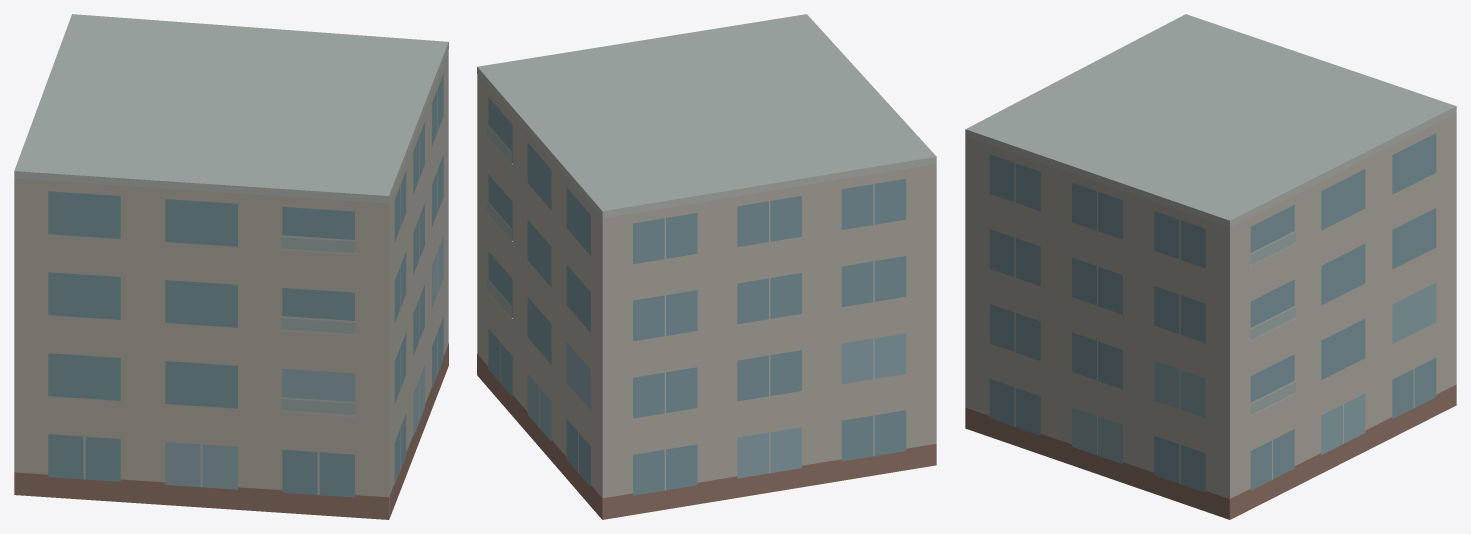
The model's file is survey-upis-32950663.glb.
3 views of the same model, side by side, from view 1: azimuth 30°, elevation 25°; view 2: azimuth 150°, elevation 25°; view 3: azimuth 270°, elevation 25° (orthographic). The views are drawn at different scales.
Parts seen in each view (by area): view 1: survey-upis-32950663.tmp; view 2: survey-upis-32950663.tmp; view 3: survey-upis-32950663.tmp.
Boxes of the visible parts, x1,y1,x2,y2 form: survey-upis-32950663.tmp: (14,14,448,519); survey-upis-32950663.tmp: (477,14,936,519); survey-upis-32950663.tmp: (965,14,1456,519).
Size of the model in its own units: 15.56 by 10.5 by 15.63.
